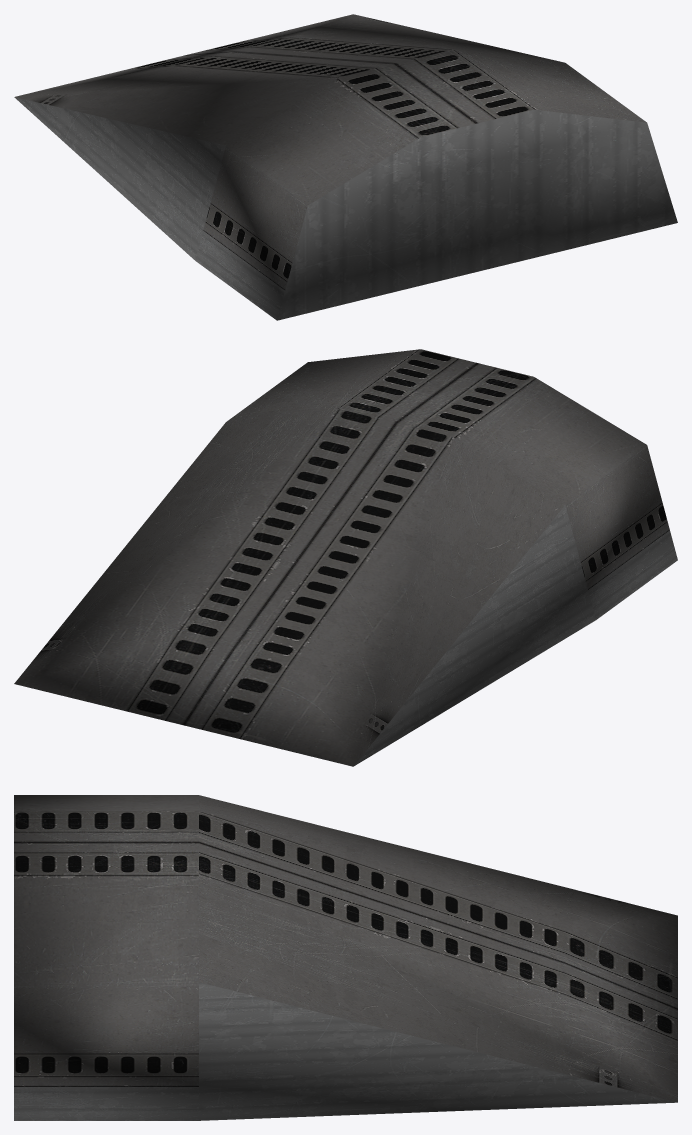
File: altar.fbx
The picture shows the model from 3 angles, top to bottom: view 1: azimuth 30°, elevation 25°; view 2: azimuth 150°, elevation 25°; view 3: azimuth 270°, elevation 25°; orthographic projection. The views are drawn at different scales.
Visible parts, largest first — view 1: Cube; view 2: Cube; view 3: Cube.
Boxes of the visible parts, bbox=[...] form: Cube: bbox=[14, 14, 677, 320]; Cube: bbox=[14, 349, 677, 766]; Cube: bbox=[14, 795, 677, 1120].
Bounding box in the file's own units: 5.77 × 2.04 × 7.33.
